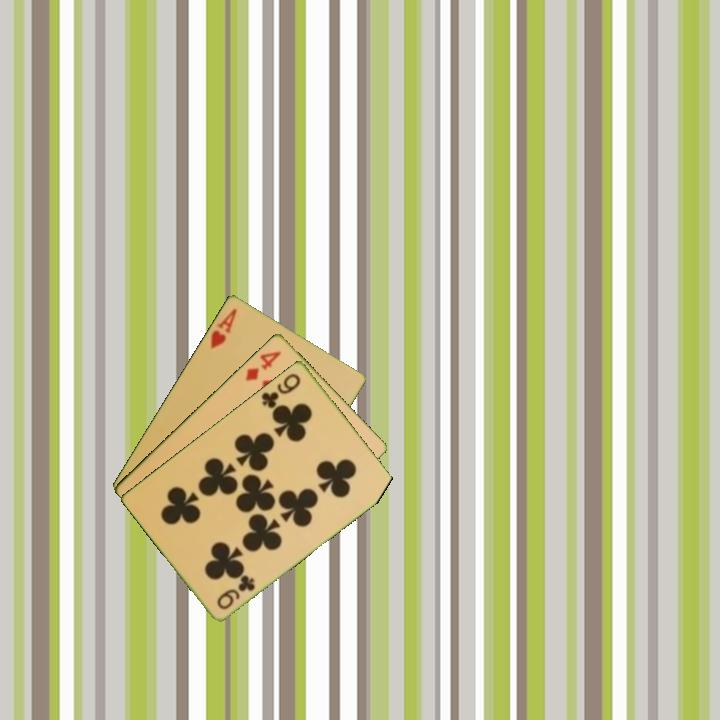4d: (242, 347, 284, 383)
9c: (257, 369, 304, 411), (213, 571, 258, 612)
Ah: (207, 304, 240, 351)
